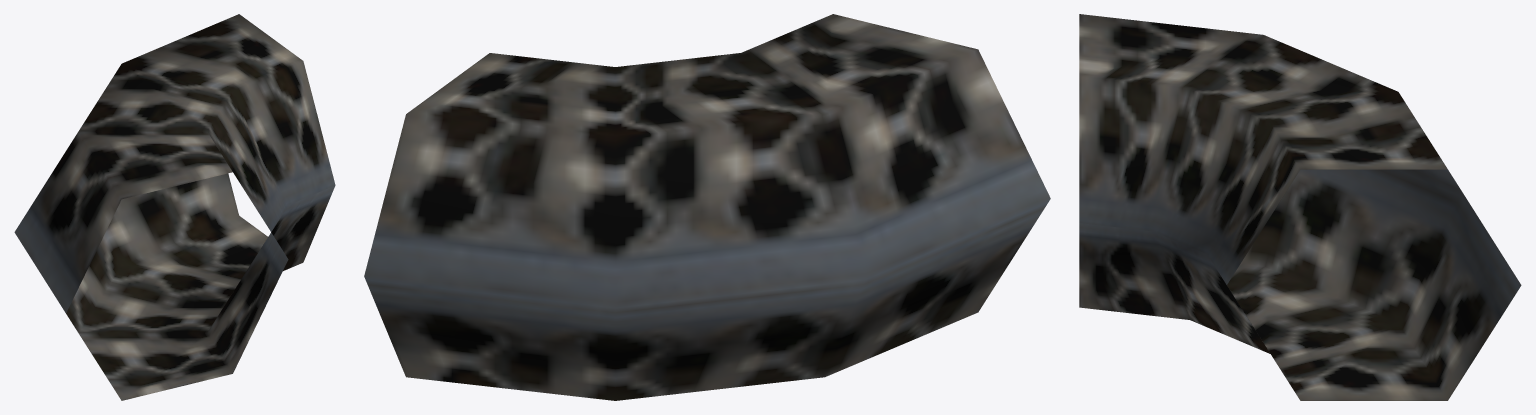
File: small_mesh_2_elbow_hz.fbx
3 renders of one model, left to right at view 1: azimuth 30°, elevation 25°; view 2: azimuth 150°, elevation 25°; view 3: azimuth 270°, elevation 25°, orthographic. The views are drawn at different scales.
Parts seen in each view (by area): view 1: allPipes:pTorus18; view 2: allPipes:pTorus18; view 3: allPipes:pTorus18.
Part boxes in pixels (x1,y1,x2,y2): allPipes:pTorus18: (14,14,335,400); allPipes:pTorus18: (364,14,1050,400); allPipes:pTorus18: (1079,14,1521,400).
Size of the model in its own units: 0.375 by 0.2165 by 0.375.
